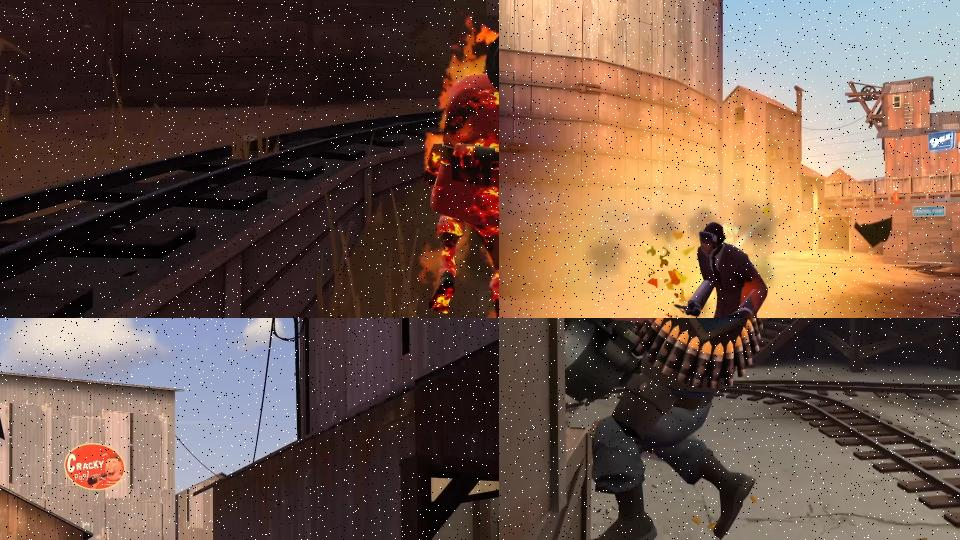Enemy: (499, 318, 790, 540), (425, 20, 499, 318), (673, 220, 777, 318)
